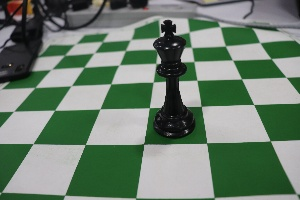black_king: (142, 11, 201, 147)
